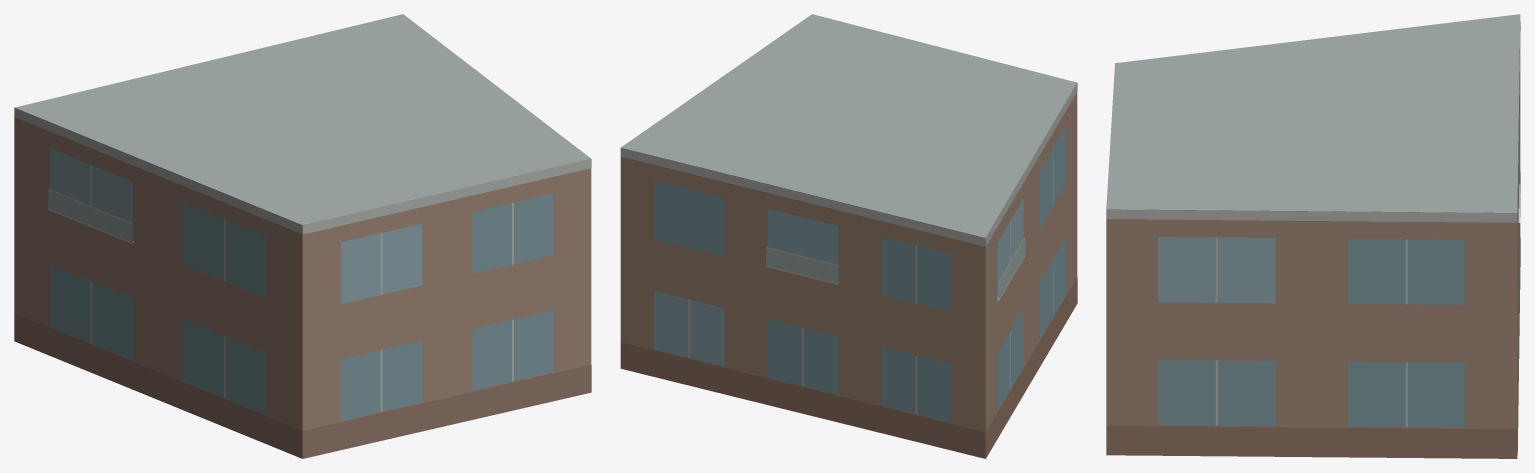
Rendered from survey-upis-32466914.glb.
3 renders of one model, left to right at view 1: azimuth 30°, elevation 25°; view 2: azimuth 150°, elevation 25°; view 3: azimuth 270°, elevation 25°, orthographic. The views are drawn at different scales.
Parts seen in each view (by area): view 1: survey-upis-32466914.tmp; view 2: survey-upis-32466914.tmp; view 3: survey-upis-32466914.tmp.
Part boxes in pixels (x1=…): survey-upis-32466914.tmp: x1=14, y1=14, x2=591, y2=458; survey-upis-32466914.tmp: x1=620, y1=14, x2=1077, y2=458; survey-upis-32466914.tmp: x1=1106, y1=14, x2=1520, y2=458.
Size of the model in its own units: 10.6 by 6.1 by 9.33.
